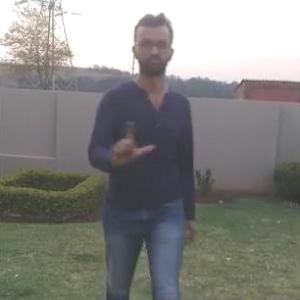land_hand: (104, 120, 153, 166)
